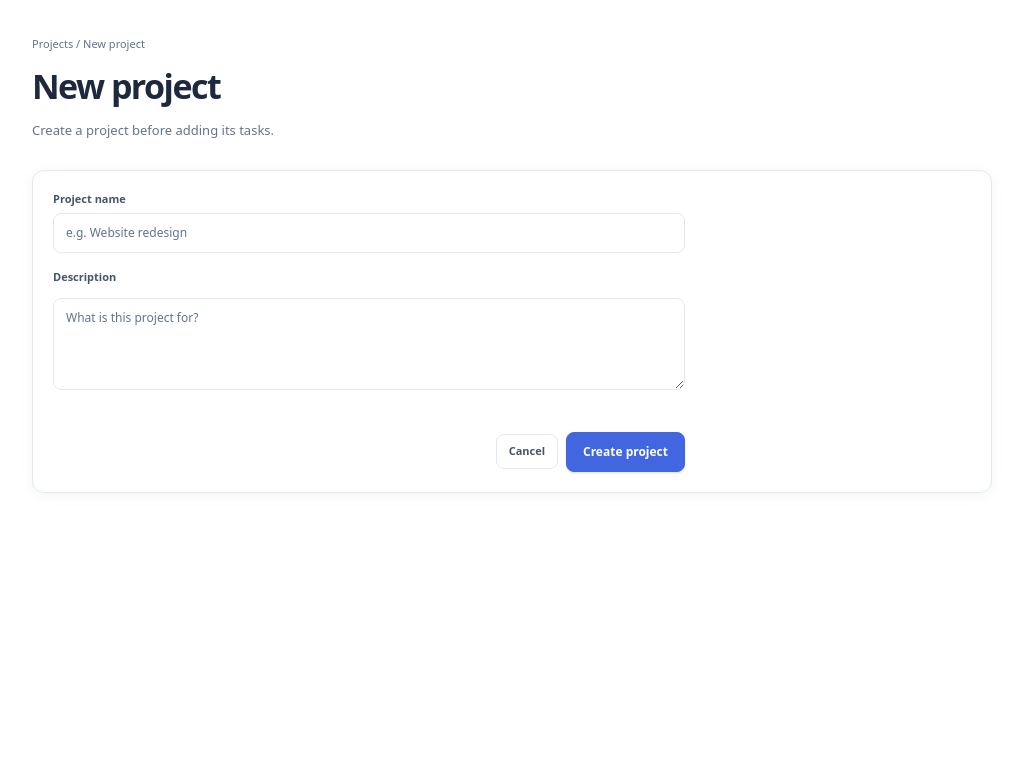
Scenario: ProjectForm (rejected submit) › links the error text to its input for screen readers
Step 1. Type "Website redesign" into the field labelled "Project name" → (369, 233), box [53,213,685,253]
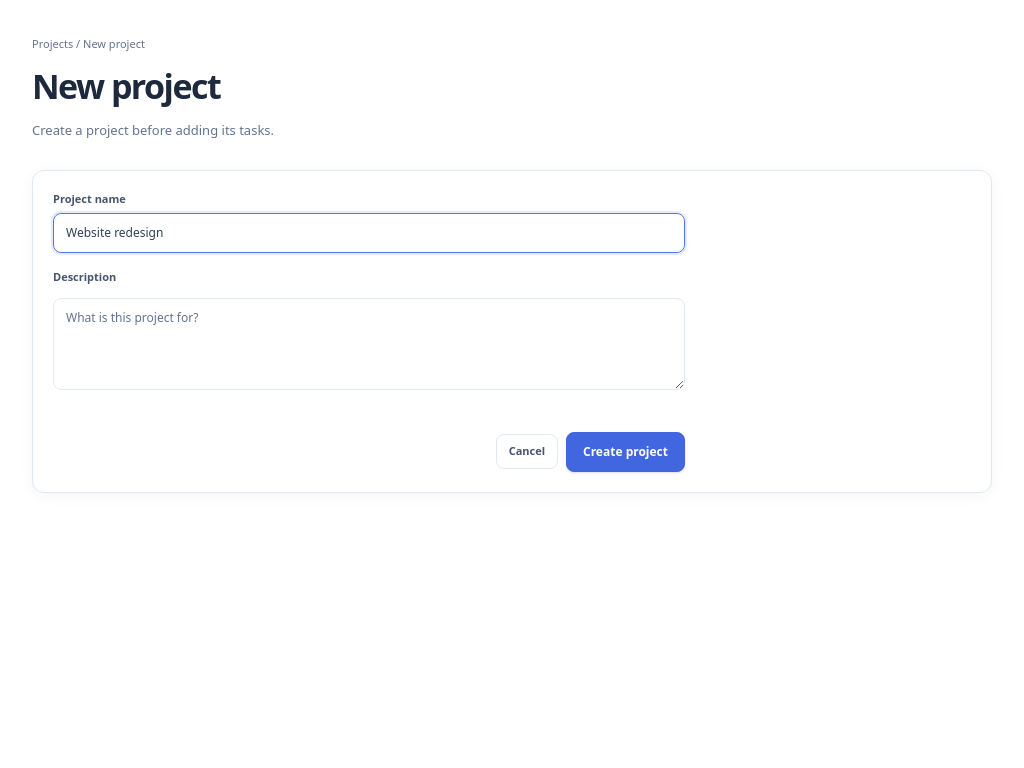
Step 2. Click the button "Create project" → (626, 452), box [566,432,685,472]
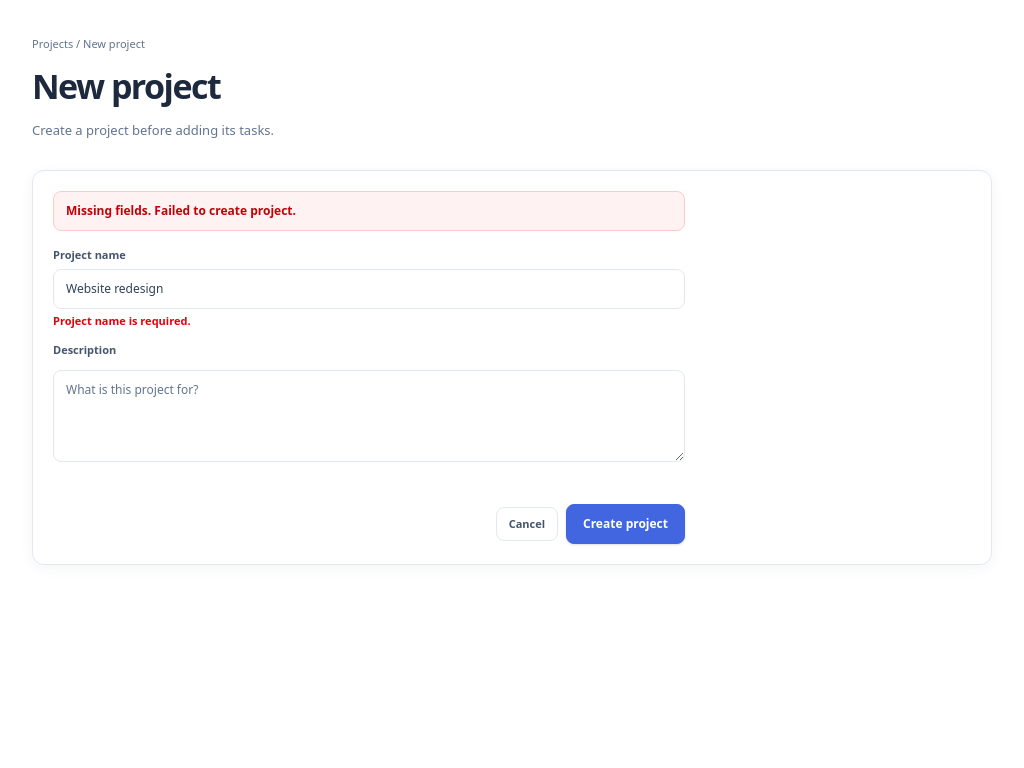
Expected: the text "Project name is required." is shown, [53,313,190,328]
